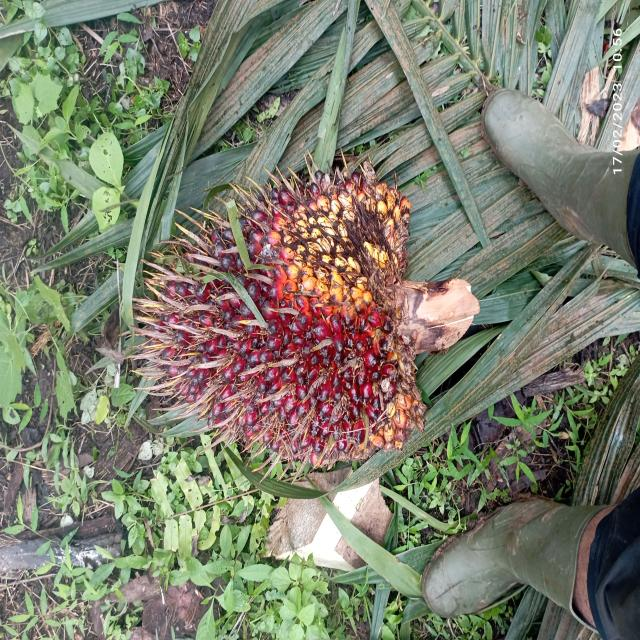fraksi 1: (89, 110, 422, 530)
